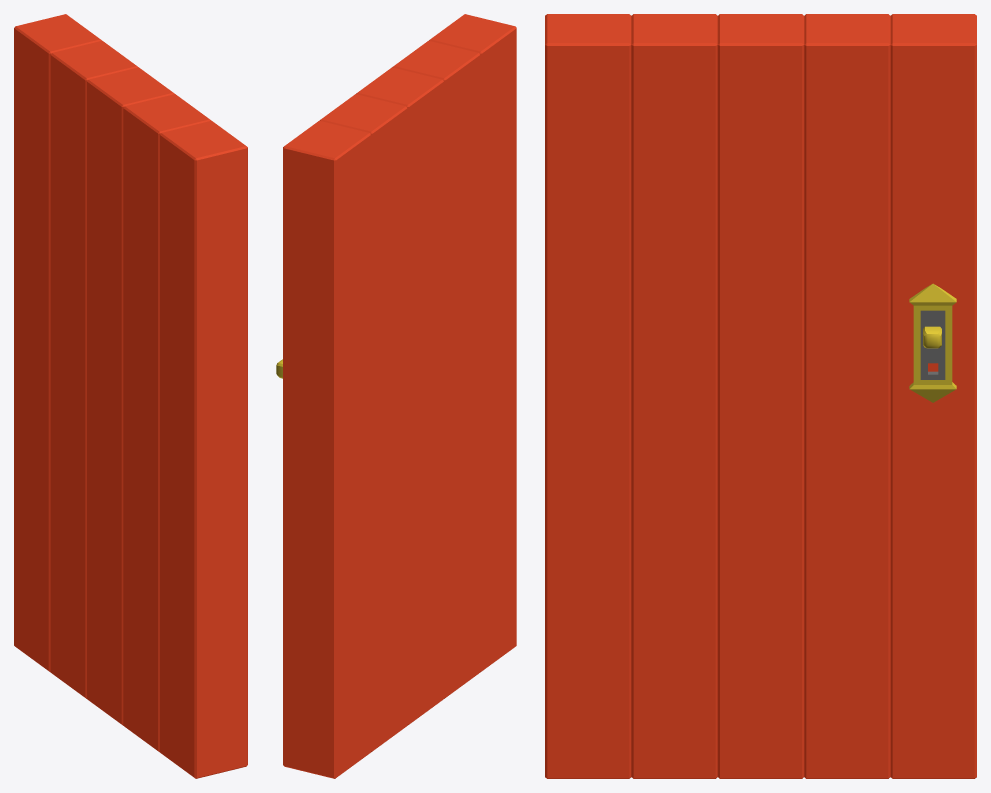
File: Door3 1.fbx
3 renders of one model, left to right at view 1: azimuth 30°, elevation 25°; view 2: azimuth 150°, elevation 25°; view 3: azimuth 270°, elevation 25°, orthographic. The views are drawn at different scales.
Visible parts, largest first — view 1: Door; view 2: Door; view 3: Door, Door Handle.
Boxes of the visible parts, bbox=[...] form: Door: bbox=[14, 14, 247, 778]; Door: bbox=[283, 14, 516, 778]; Door: bbox=[545, 14, 976, 778]; Door Handle: bbox=[909, 283, 956, 402].
Size of the model in its own units: 43.29 by 338 by 180.
